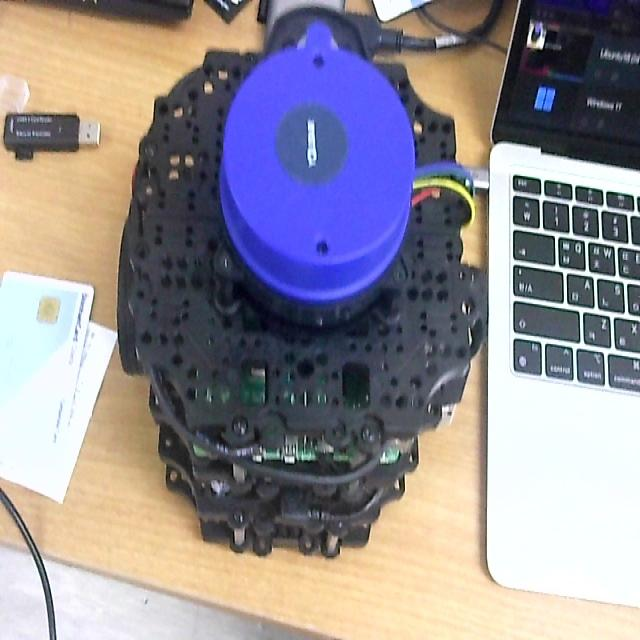turtle: (116, 4, 488, 560)
